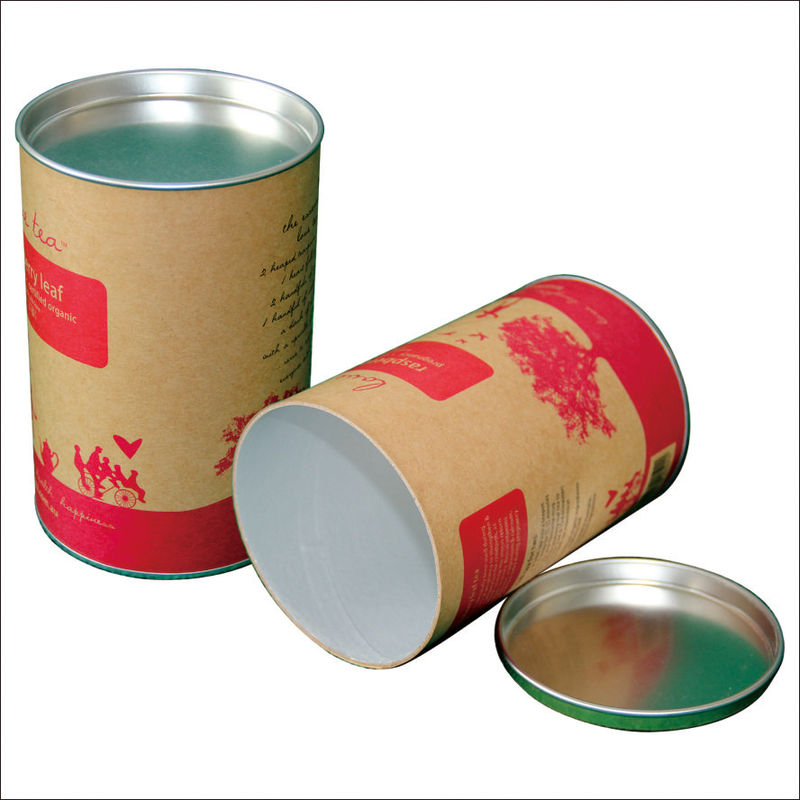Rec_Metal: (195, 275, 715, 663), (7, 59, 329, 575), (484, 555, 783, 744)
